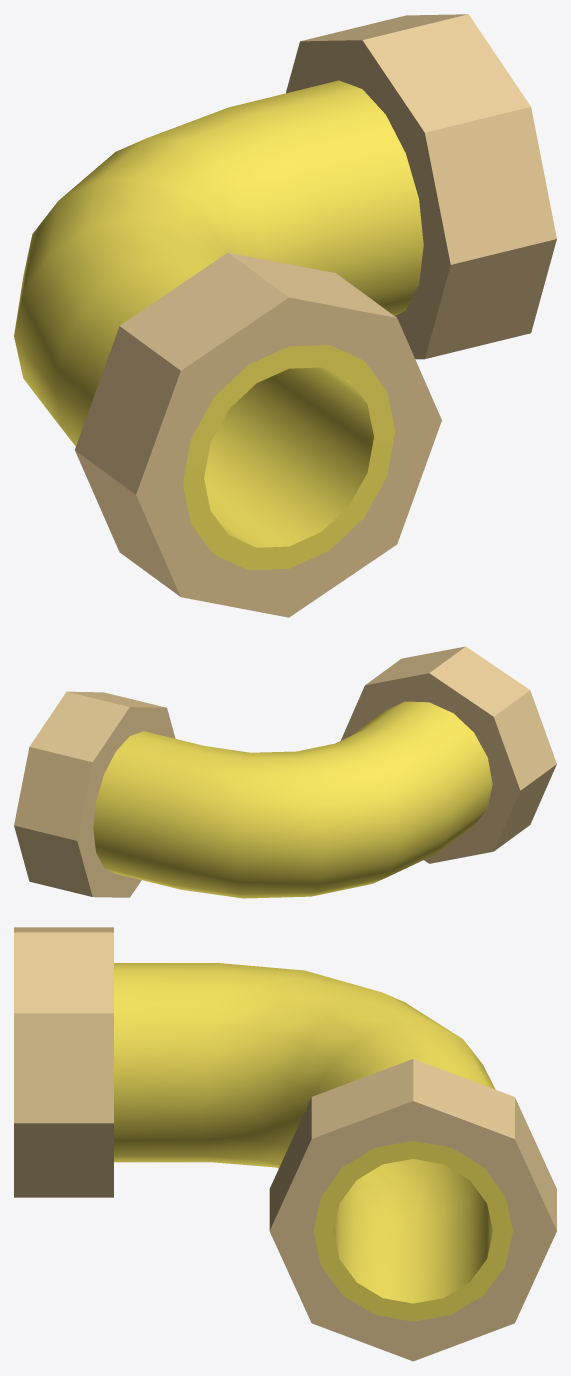
Rendered from pipe_2m_L.fbx.
The picture shows the model from 3 angles, top to bottom: view 1: azimuth 30°, elevation 25°; view 2: azimuth 150°, elevation 25°; view 3: azimuth 270°, elevation 25°; orthographic projection. The views are drawn at different scales.
Visible parts, largest first — view 1: Vert.040, Vert.030, Vert.014; view 2: Vert.040, Vert.014, Vert.030; view 3: Vert.040, Vert.014, Vert.030.
Boxes of the visible parts, left/top/right/bottom form: Vert.040: left=14, top=80, right=423, bottom=570; Vert.030: left=75, top=252, right=441, bottom=617; Vert.014: left=286, top=14, right=556, bottom=359; Vert.040: left=93, top=701, right=492, bottom=898; Vert.014: left=14, top=691, right=175, bottom=897; Vert.030: left=341, top=646, right=556, bottom=863; Vert.040: left=114, top=963, right=512, bottom=1321; Vert.014: left=269, top=1059, right=556, bottom=1361; Vert.030: left=14, top=927, right=113, bottom=1197.
Bounding box in the file's own units: 136 × 72 × 136.
